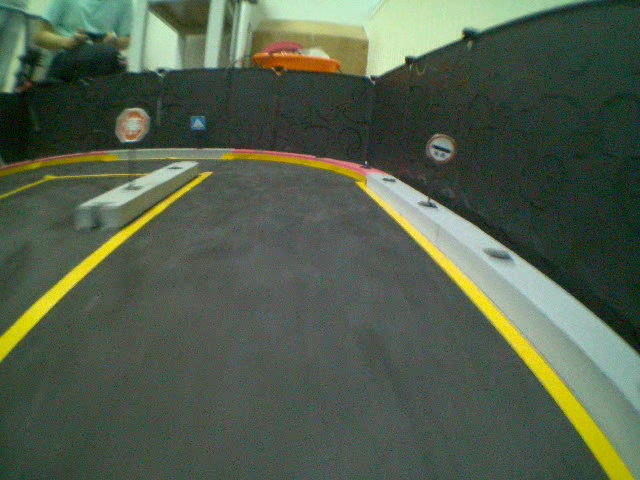Check: (425, 133, 457, 163)
Stop: (114, 105, 151, 145)
crossing: (189, 113, 206, 131)
